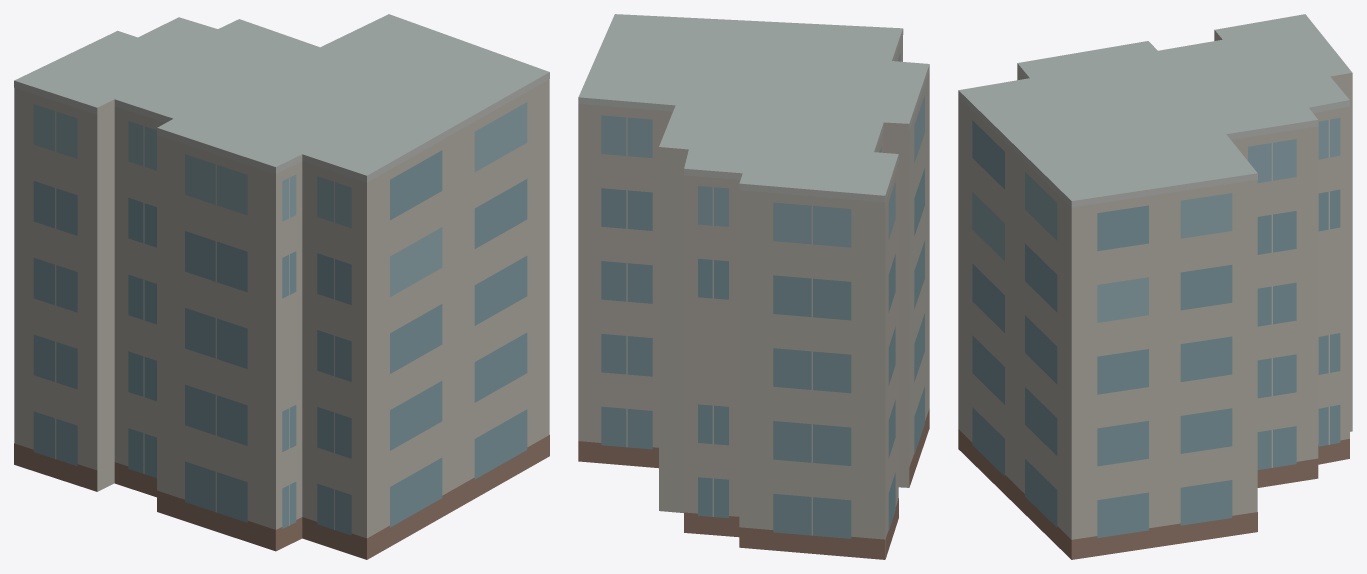
The model's file is survey-upis-32755938.glb.
3 views of the same model, side by side, from view 1: azimuth 30°, elevation 25°; view 2: azimuth 150°, elevation 25°; view 3: azimuth 270°, elevation 25° (orthographic). The views are drawn at different scales.
Parts seen in each view (by area): view 1: survey-upis-32755938.tmp; view 2: survey-upis-32755938.tmp; view 3: survey-upis-32755938.tmp.
Boxes of the visible parts, left/top/right/bottom form: survey-upis-32755938.tmp: left=14, top=14, right=549, bottom=559; survey-upis-32755938.tmp: left=578, top=14, right=929, bottom=559; survey-upis-32755938.tmp: left=958, top=14, right=1352, bottom=559.
Size of the model in its own units: 15.17 by 13.55 by 13.5.
